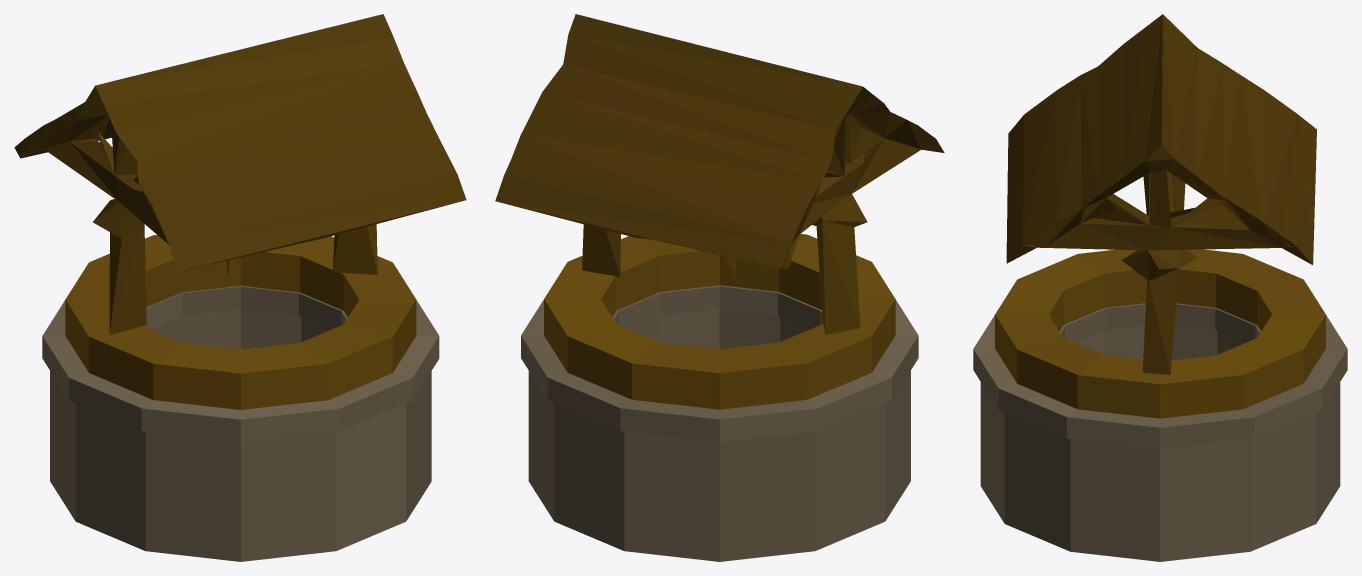
File: yard_well.glb
3 renders of one model, left to right at view 1: azimuth 30°, elevation 25°; view 2: azimuth 150°, elevation 25°; view 3: azimuth 270°, elevation 25°, orthographic. The views are drawn at different scales.
Parts seen in each view (by area): view 1: yard_well.001; view 2: yard_well.001; view 3: yard_well.001.
Boxes of the visible parts, x1=… form: yard_well.001: x1=14, y1=14, x2=466, y2=561; yard_well.001: x1=495, y1=14, x2=944, y2=561; yard_well.001: x1=973, y1=14, x2=1347, y2=561.
Size of the model in its own units: 1.58 by 1.9 by 1.58.
